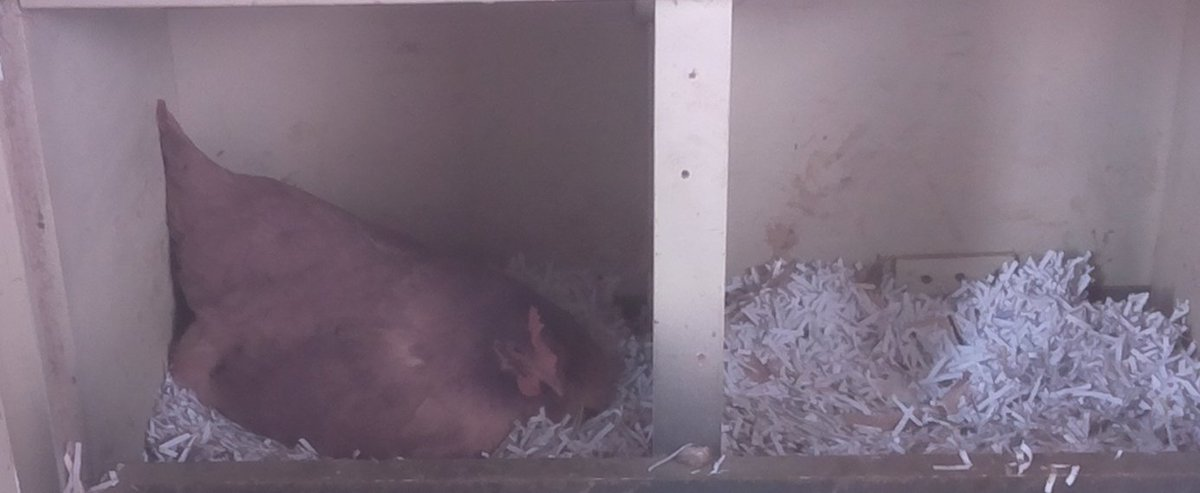hen: (148, 92, 633, 454)
